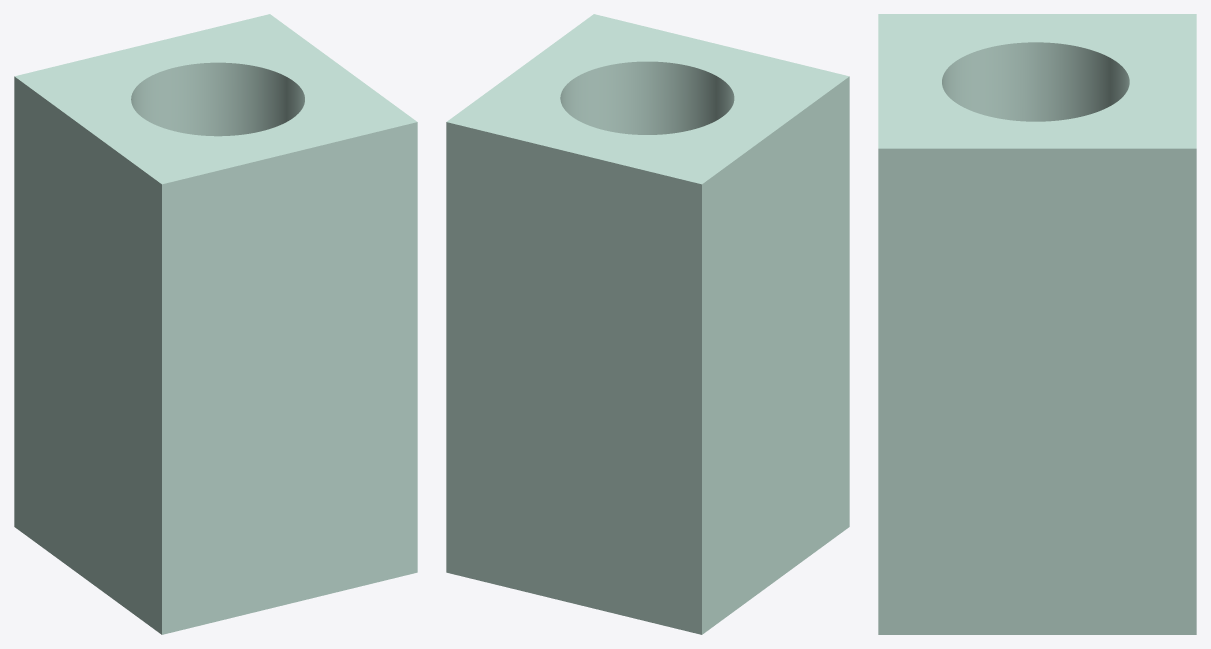
3 renders of one model, left to right at view 1: azimuth 30°, elevation 25°; view 2: azimuth 150°, elevation 25°; view 3: azimuth 270°, elevation 25°, orthographic. The views are drawn at different scales.
Visible parts, largest first — view 1: Renderer Node; view 2: Renderer Node; view 3: Renderer Node.
Part boxes in pixels (<box>): Renderer Node: <box>14,14,417,634</box>; Renderer Node: <box>446,14,849,634</box>; Renderer Node: <box>878,14,1196,634</box>.
Bounding box in the file's own units: 0.4453 × 0.75 × 0.4453.
